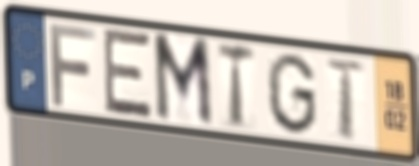E: (102, 25, 155, 122)
F: (46, 19, 98, 110)
G: (264, 50, 320, 138)
M: (150, 31, 216, 132)
T: (323, 55, 369, 144), (215, 39, 257, 133)
